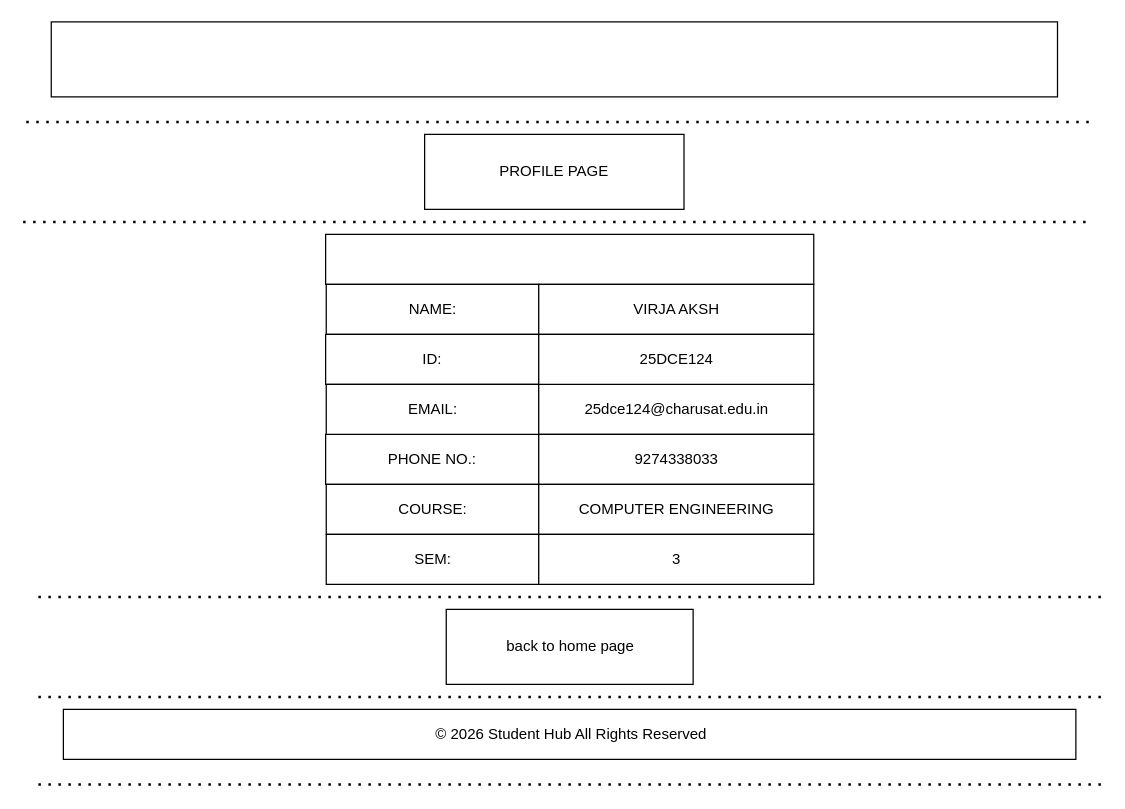
The diagram is 1125 pixels wide and 809 high, and some of its shapes have lost their labels. Here are the shapes that lost their labels. From the top down, the centre of each, then its label:
At point 554,59: "STUDENT HUB".
At point 569,258: "STUDENT DETAIL".
